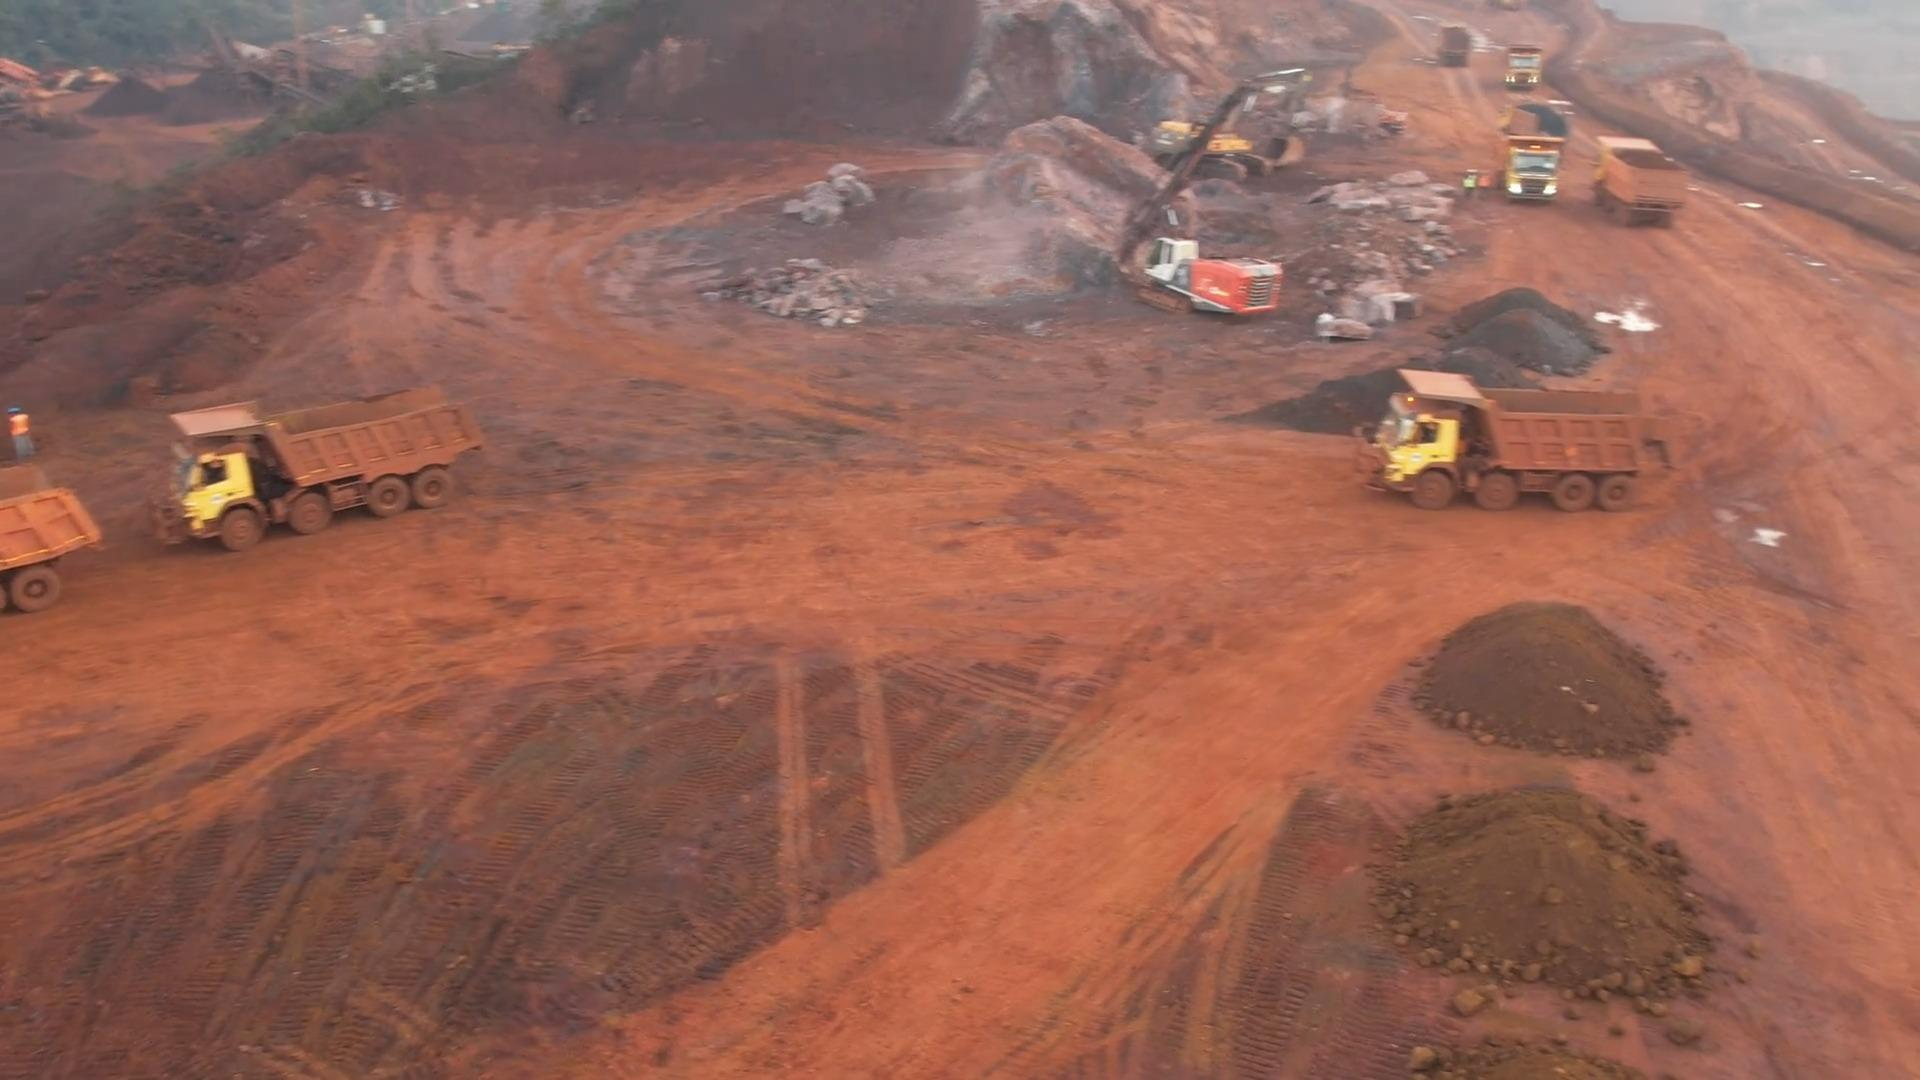excavator: (1159, 69, 1312, 174)
